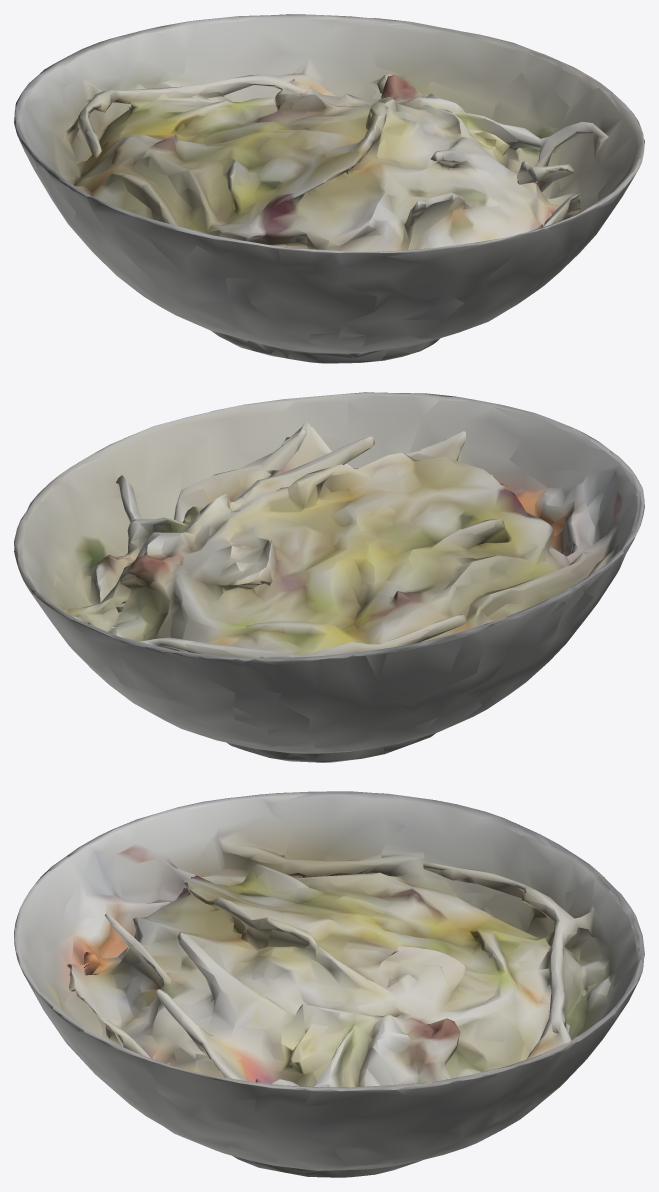
The model's file is 0009_mask_010_shredded_cabbage_salad.glb.
3 renders of one model, top to bottom at view 1: azimuth 30°, elevation 25°; view 2: azimuth 150°, elevation 25°; view 3: azimuth 270°, elevation 25°, orthographic.
Parts seen in each view (by area): view 1: mask_010_object; view 2: mask_010_object; view 3: mask_010_object.
Part boxes in pixels (bbox=[...]): mask_010_object: bbox=[14, 14, 644, 363]; mask_010_object: bbox=[14, 392, 644, 762]; mask_010_object: bbox=[14, 791, 644, 1177].
Size of the model in its own units: 0.4166 by 0.1646 by 0.4237.
